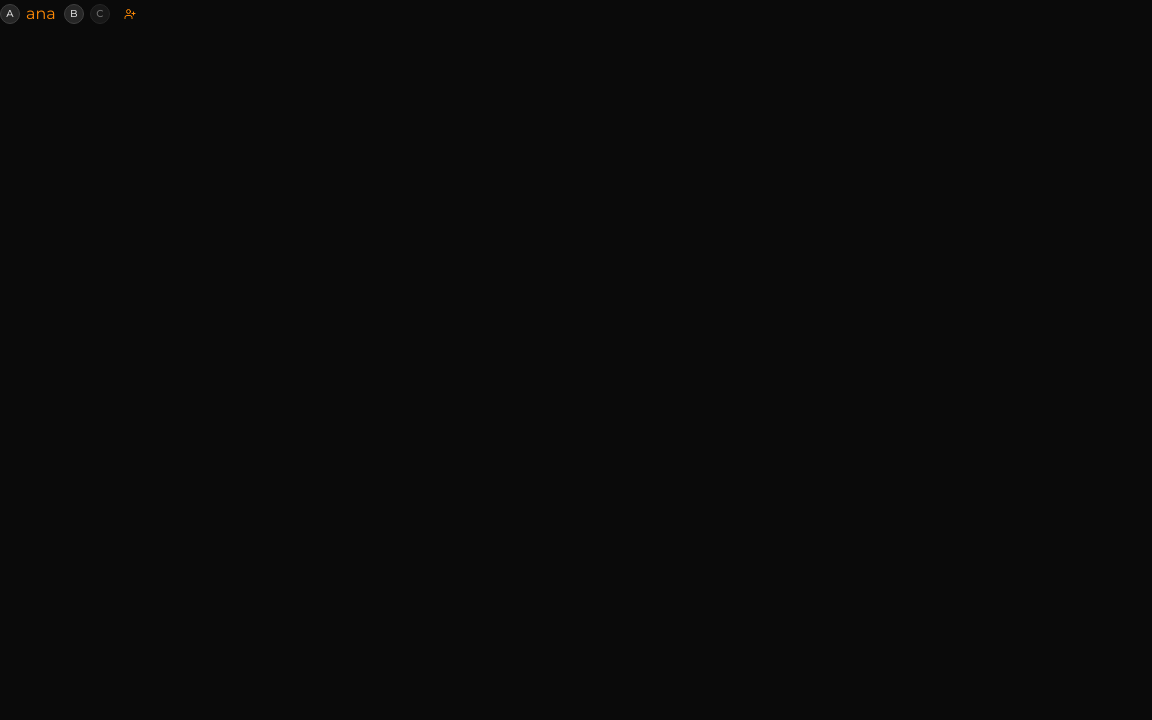
<GeolocatorsByline> › invites from the popover, which closes once the invitation lands
Click the button named "Invite a geolocator".
click(130, 14)  # box [118,2,142,26]
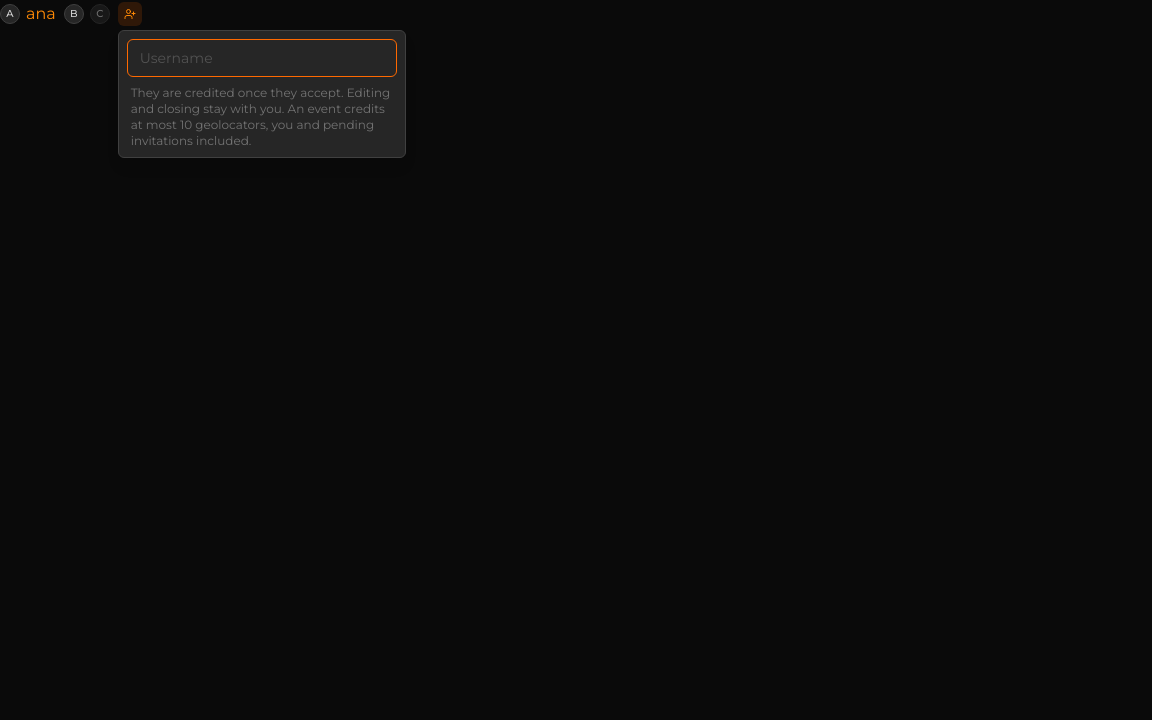
Type "dee" into the dropdown.
click(262, 58); type("dee")  # box [127,38,397,76]
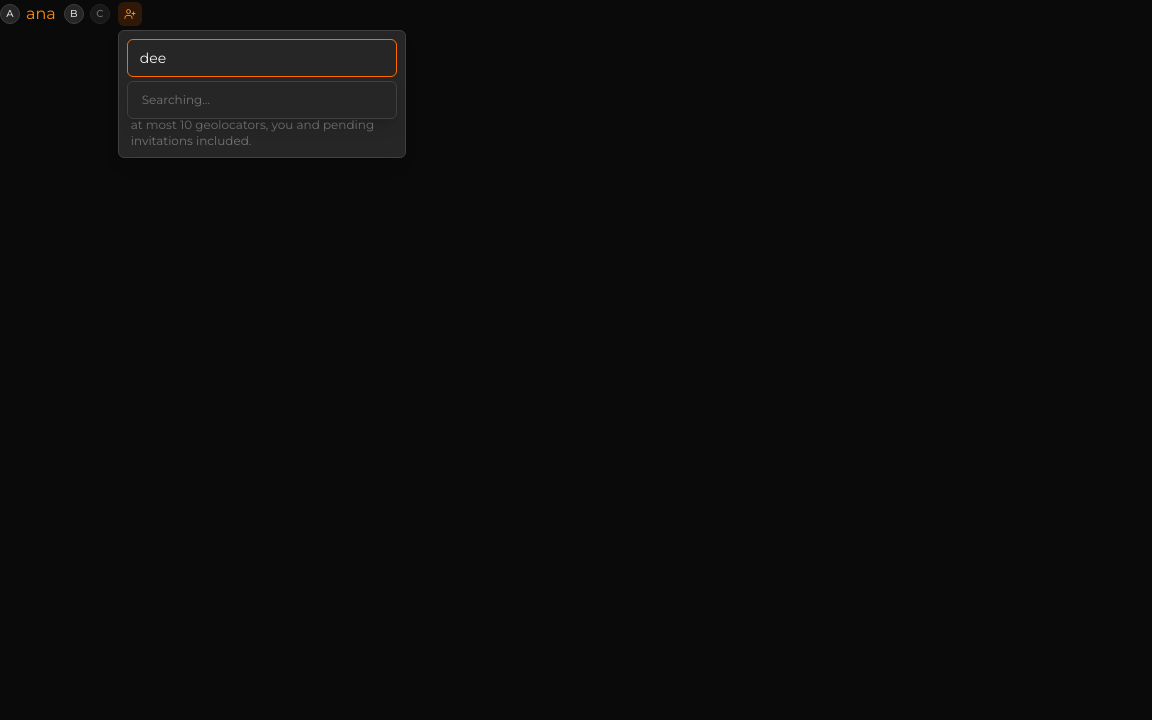
Press Enter in the dropdown, box [127,38,397,76]
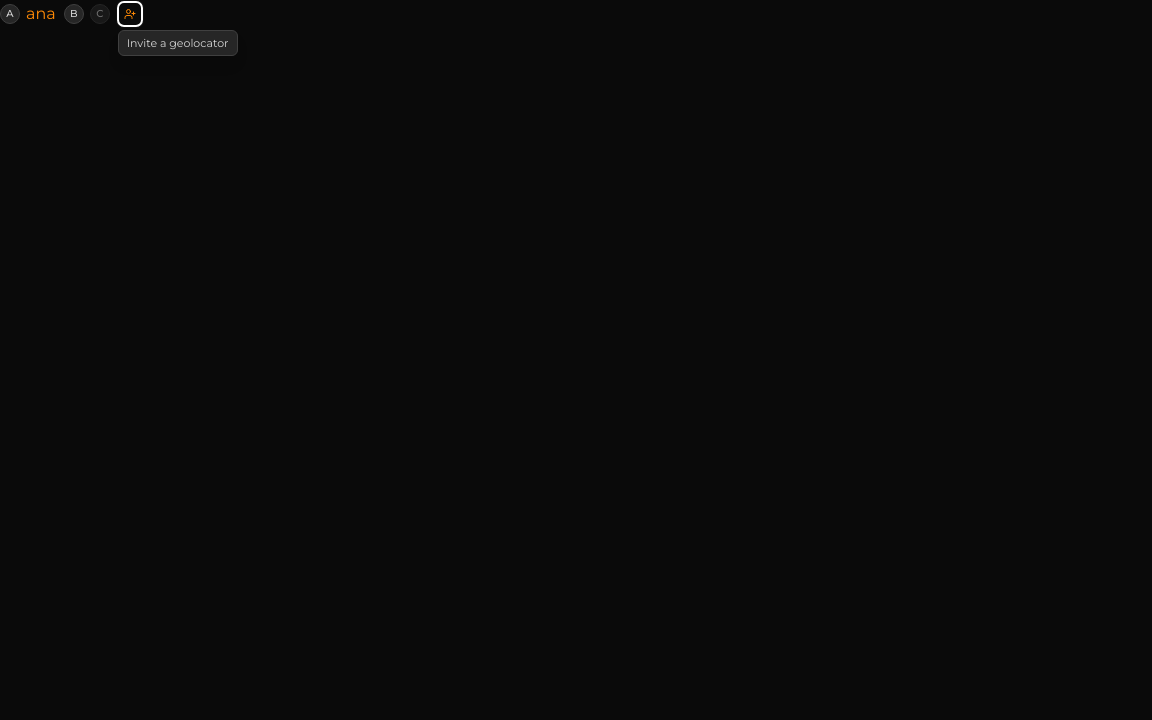
Check: the dialog is gone
